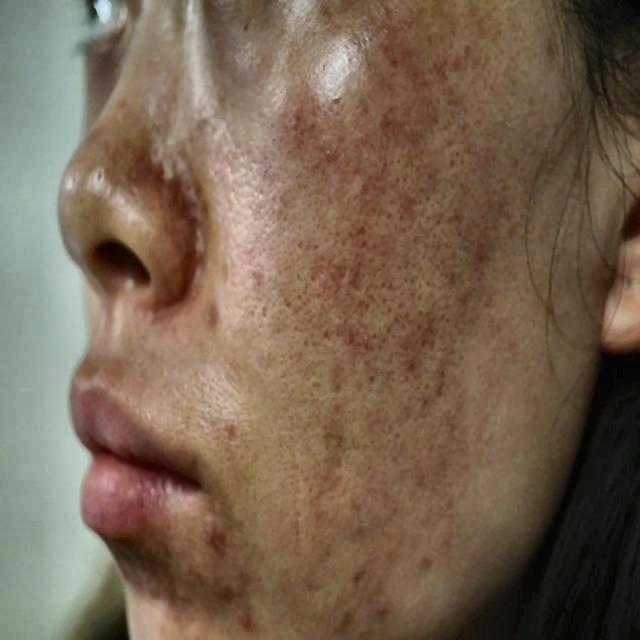comedone: (203, 509, 241, 568), (201, 302, 218, 343)
